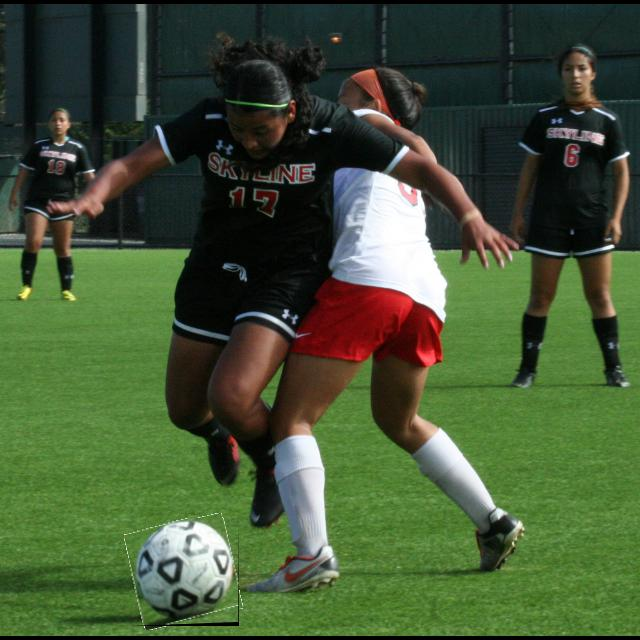Football: (129, 518, 239, 626)
